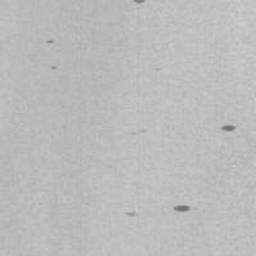Inclusion: (220, 123, 238, 133), (173, 205, 191, 212), (124, 211, 137, 218), (131, 0, 147, 4)
